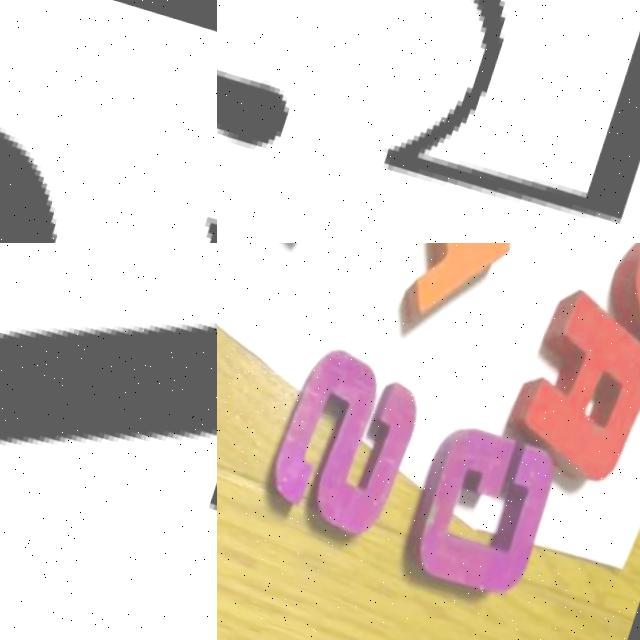5: (217, 0, 640, 243)
A: (503, 279, 640, 493)
G: (404, 404, 579, 596)
I: (360, 243, 552, 314)
O: (599, 243, 640, 385)
S: (255, 320, 443, 546), (0, 56, 217, 243)
T: (0, 243, 217, 620)
